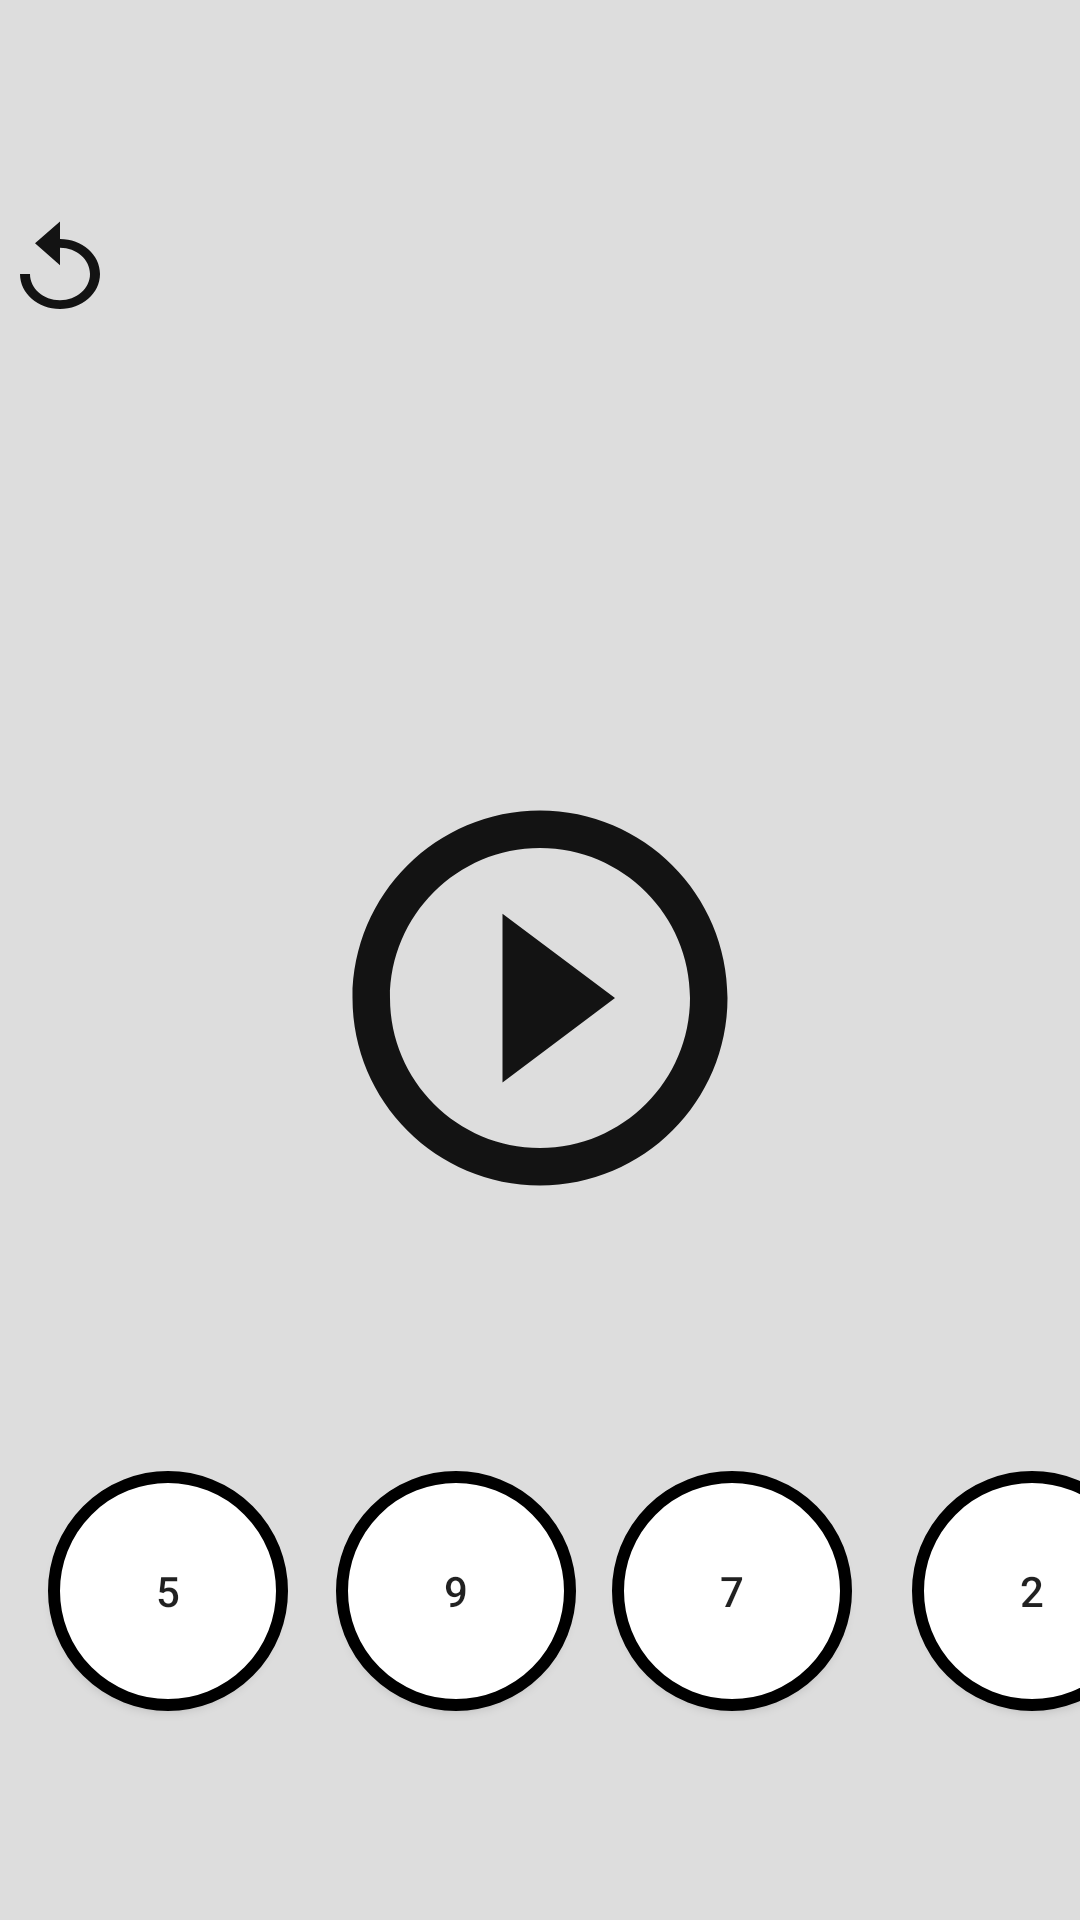

Icon bounding boxes for this 1080px x 1920px phone screenshot, format [x1=x1, y1=y1, x2=x2, y2=y2]:
replay: [x1=20, y1=221, x2=100, y2=309]
